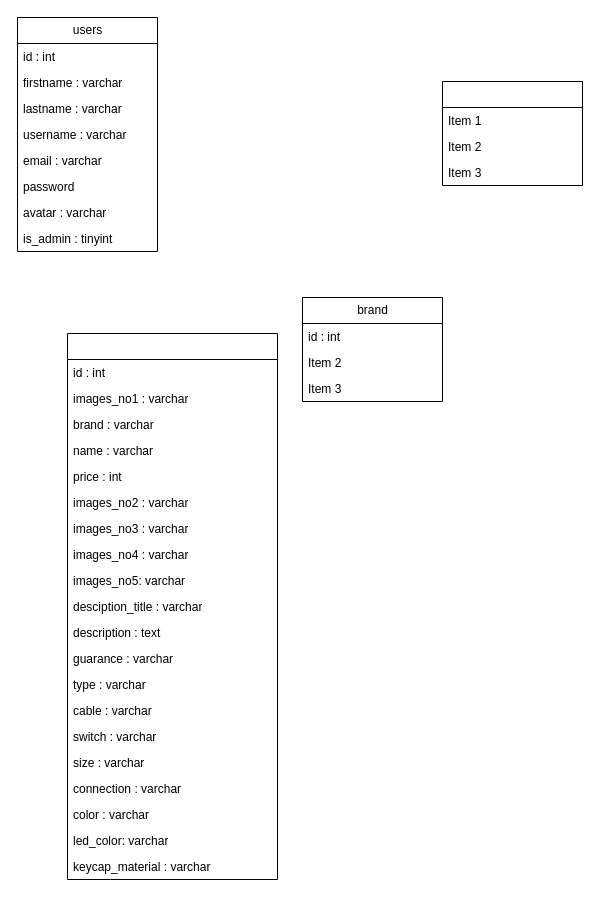
This 600x900 diagram has some shape labels left out. The box of each missing label's shape, as (x1, y1, x2, y2) in pixels:
List: (442, 80, 582, 186)
products: (66, 332, 278, 880)
